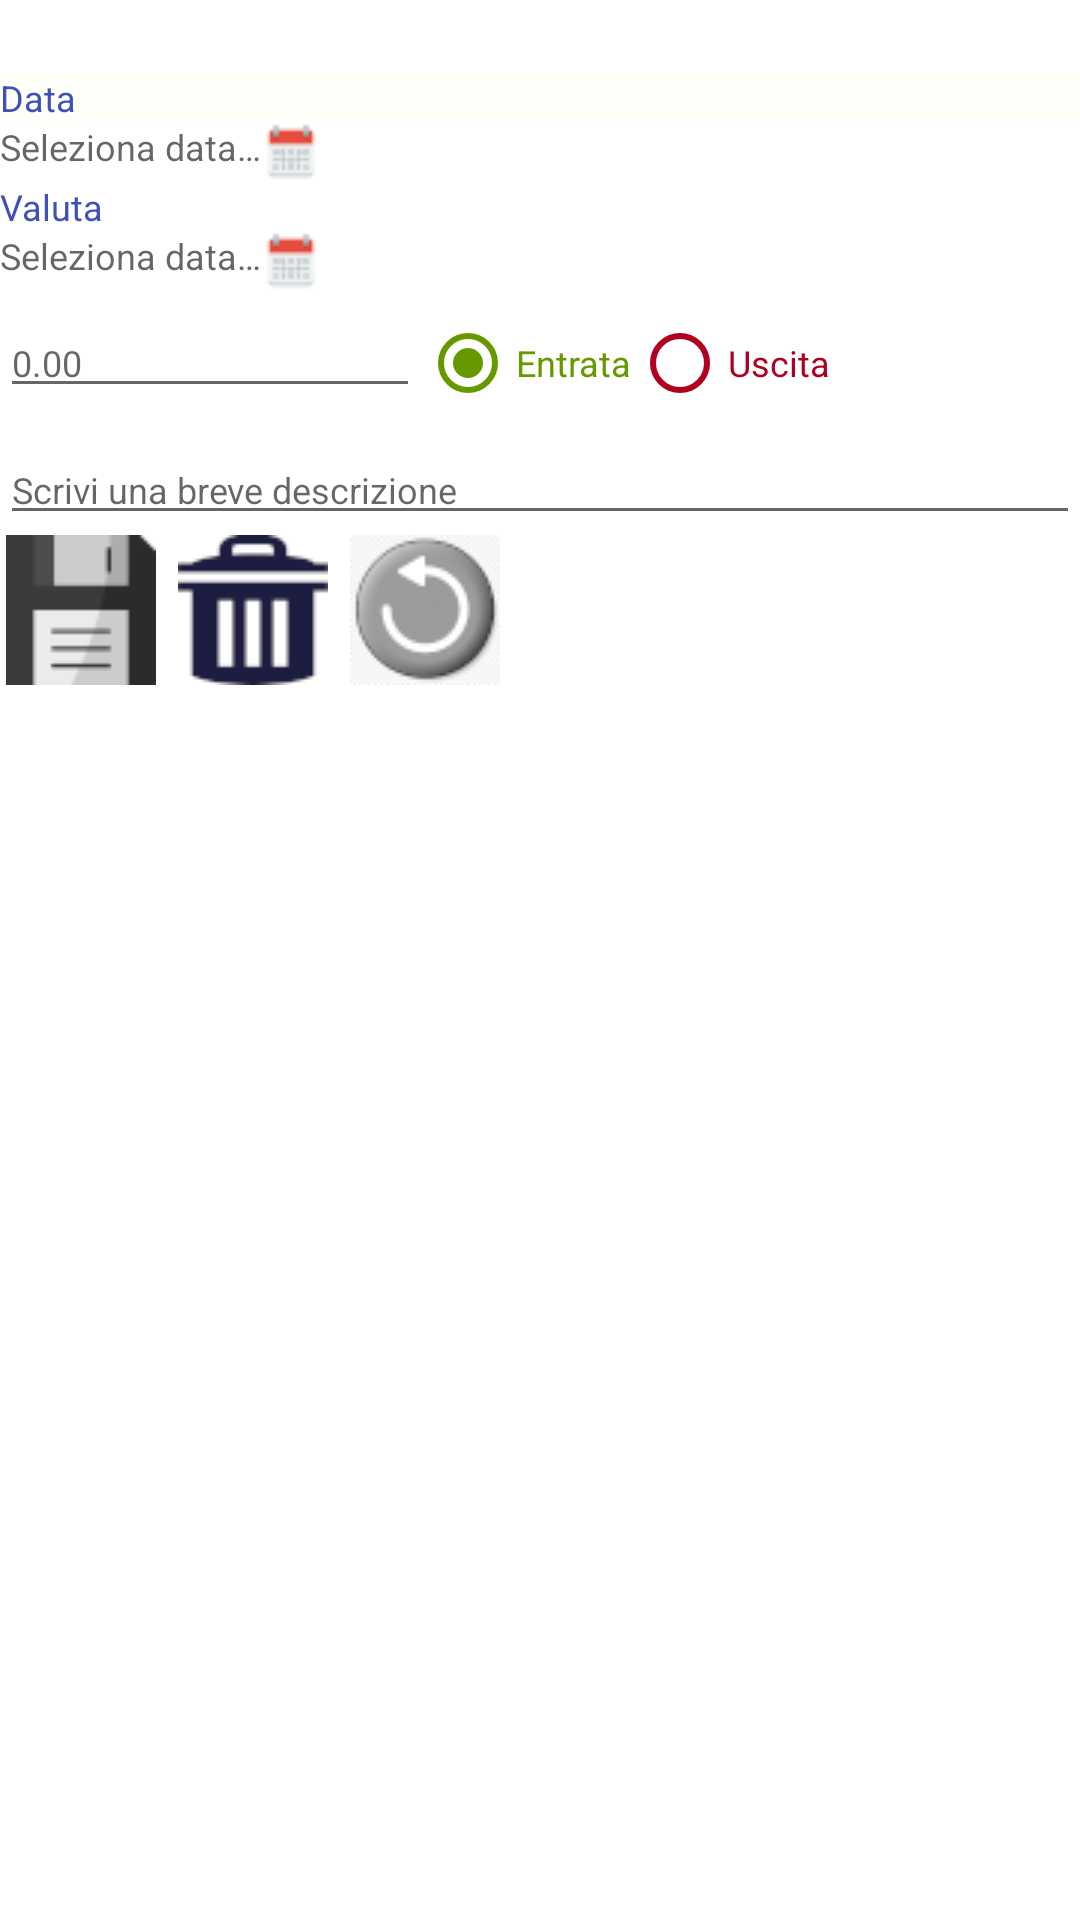

Where to tap for icons on this 1080*1920 app screen, as point (x, y):
Annulla: point (426, 609)
Cancella: point (253, 610)
Salva: point (81, 610)
